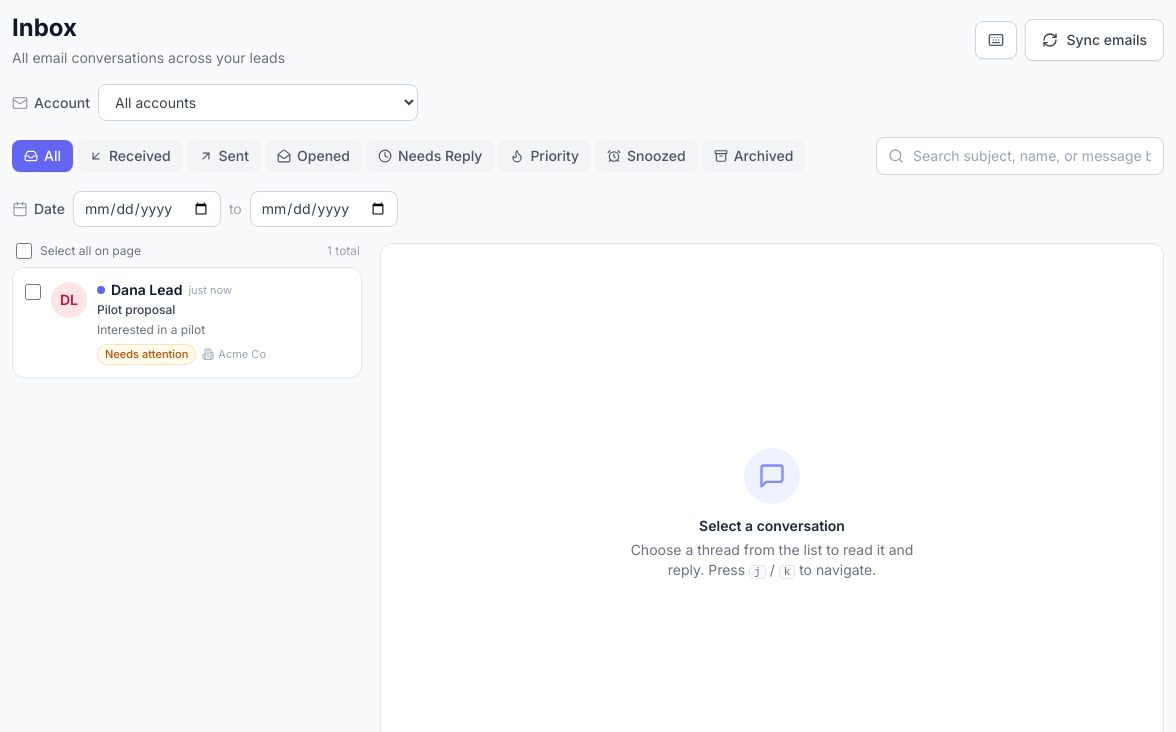
it: Inbox composer › inserts a saved template into the reply body
The width and height of the screenshot is (1176, 732).
Click the button "Pilot proposal" at (189, 322), box [97, 280, 281, 364]
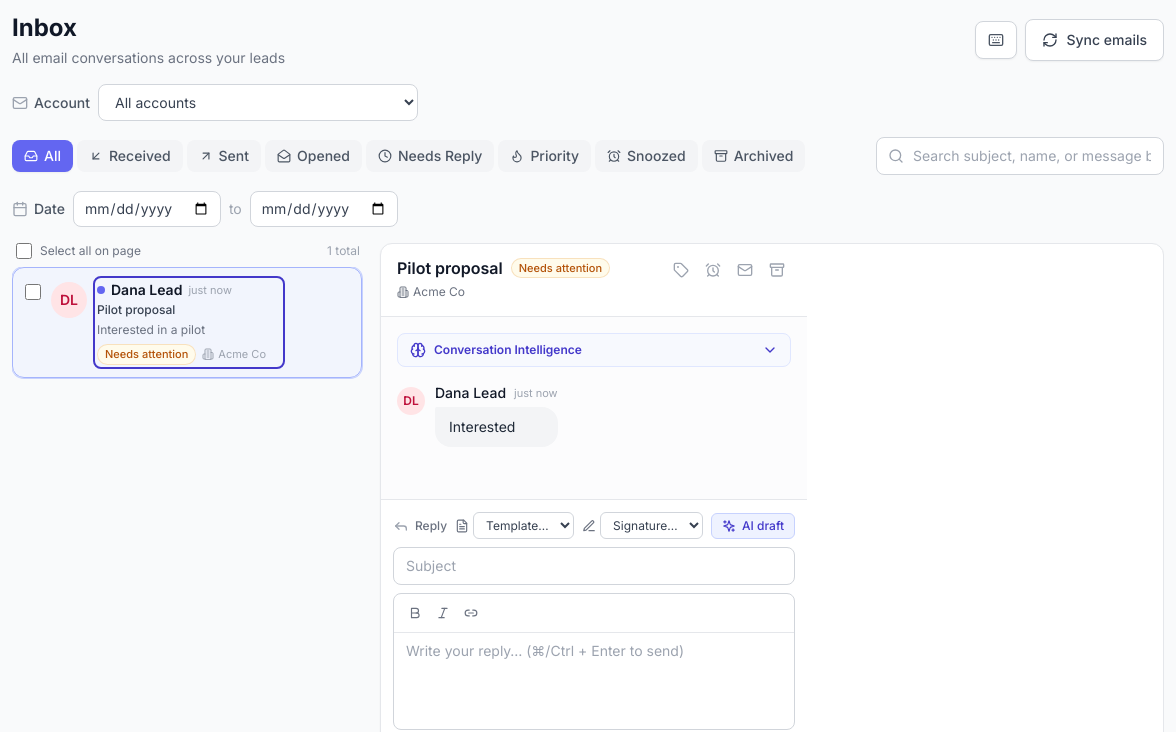
Select "Intro" in the dropdown named "Insert template" at (524, 526), box [473, 512, 574, 539]
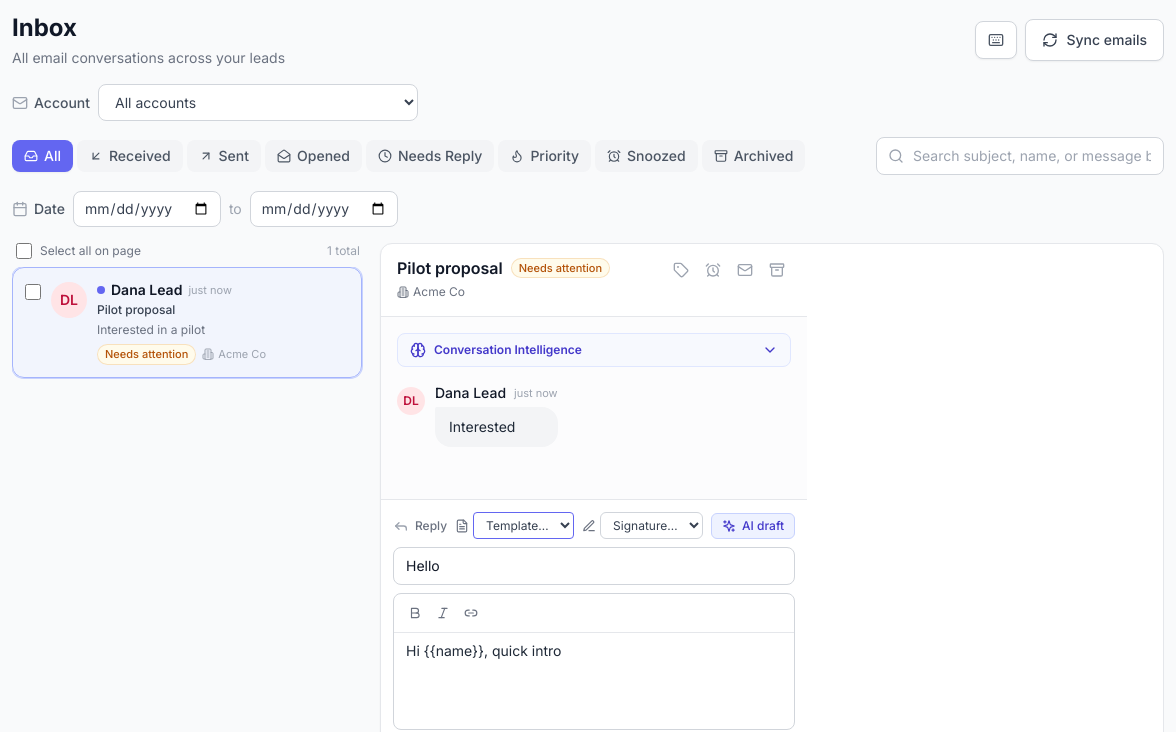
Check: the field named "Reply body" shows "quick intro", box [406, 642, 562, 659]
